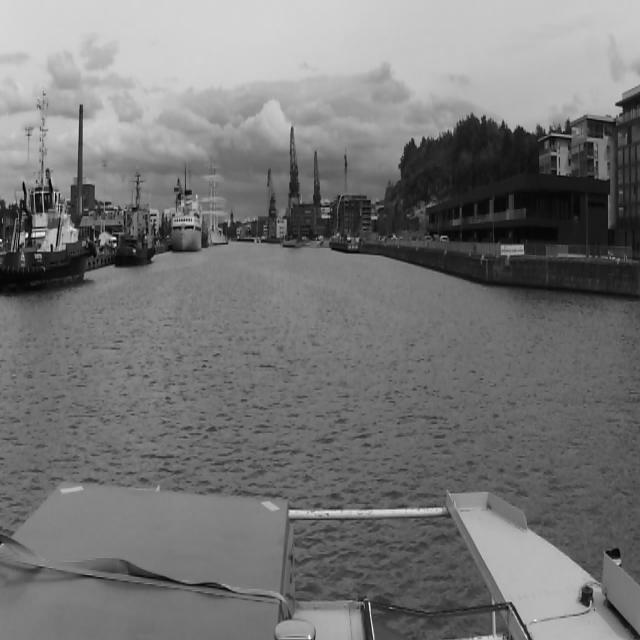ship: (0, 169, 87, 291), (119, 173, 155, 263), (170, 188, 202, 252), (205, 158, 227, 245)
